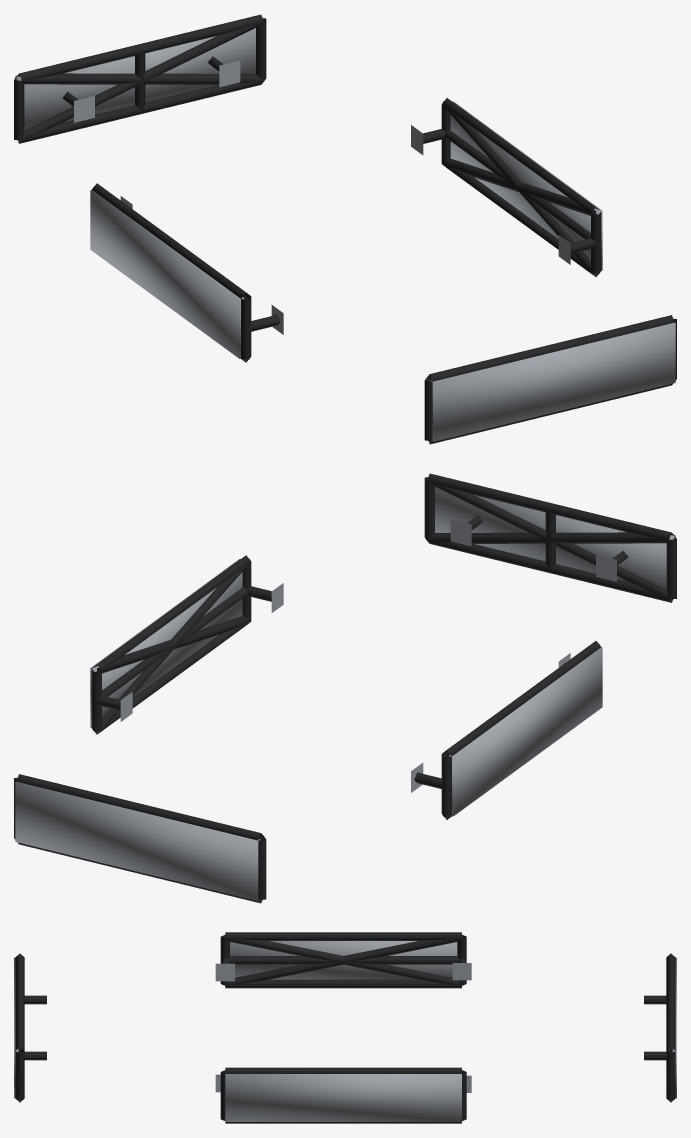
The model's file is tomoe_varanda_protecao.glb.
The picture shows the model from 3 angles, top to bottom: view 1: azimuth 30°, elevation 25°; view 2: azimuth 150°, elevation 25°; view 3: azimuth 270°, elevation 25°; orthographic projection. The views are drawn at different scales.
Visible parts, largest first — view 1: Protection_front_Level3_Details, Protection_left_Level3_Details, Protection_rear_Level1_Details, Protection_rear_Level3_Details, Protection_right_Level1_Details, Protection_rear_Level2_Details, Protection_right_Level2_Details, Protection_right_Level3_Details, Protection_front_Level1_Details, Protection_left_Level1_Details; view 2: Protection_rear_Level3_Details, Protection_left_Level3_Details, Protection_front_Level1_Details, Protection_front_Level3_Details, Protection_right_Level1_Details, Protection_front_Level2_Details, Protection_right_Level2_Details, Protection_right_Level3_Details, Protection_rear_Level1_Details, Protection_left_Level1_Details; view 3: Protection_right_Level3_Details, Protection_left_Level1_Details, Protection_left_Level2_Details, Protection_left_Level3_Details, Protection_right_Level1_Details, Protection_rear_Level1_Details, Protection_front_Level1_Details.
Part boxes in pixels (<box>): Protection_front_Level3_Details: <box>431,322,675,441</box>; Protection_left_Level3_Details: <box>90,189,244,358</box>; Protection_rear_Level1_Details: <box>14,14,266,143</box>; Protection_rear_Level3_Details: <box>15,28,255,130</box>; Protection_right_Level1_Details: <box>411,98,601,276</box>; Protection_rear_Level2_Details: <box>16,22,263,142</box>; Protection_right_Level2_Details: <box>442,105,600,276</box>; Protection_right_Level3_Details: <box>450,101,602,270</box>; Protection_front_Level1_Details: <box>424,315,676,444</box>; Protection_left_Level1_Details: <box>92,183,283,362</box>; Protection_rear_Level3_Details: <box>15,781,259,900</box>; Protection_left_Level3_Details: <box>448,647,602,816</box>; Protection_front_Level1_Details: <box>424,473,676,602</box>; Protection_front_Level3_Details: <box>435,487,675,589</box>; Protection_right_Level1_Details: <box>91,555,283,734</box>; Protection_front_Level2_Details: <box>427,481,674,601</box>; Protection_right_Level2_Details: <box>93,562,250,733</box>; Protection_right_Level3_Details: <box>90,559,242,727</box>; Protection_rear_Level1_Details: <box>14,774,266,903</box>; Protection_left_Level1_Details: <box>411,641,600,819</box>; Protection_right_Level3_Details: <box>225,1074,461,1121</box>; Protection_left_Level1_Details: <box>215,932,471,988</box>; Protection_left_Level2_Details: <box>225,935,462,985</box>; Protection_left_Level3_Details: <box>230,941,457,979</box>; Protection_right_Level1_Details: <box>215,1067,471,1123</box>; Protection_rear_Level1_Details: <box>644,953,675,1102</box>; Protection_front_Level1_Details: <box>15,953,46,1102</box>.
Size of the model in its own units: 1.91 by 0.354 by 3.81.
1 material, 1 textured.
